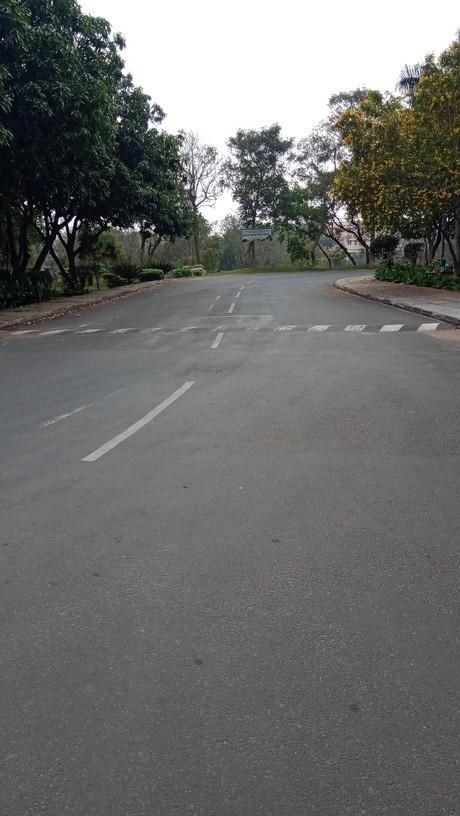Bump: (0, 319, 459, 337)
